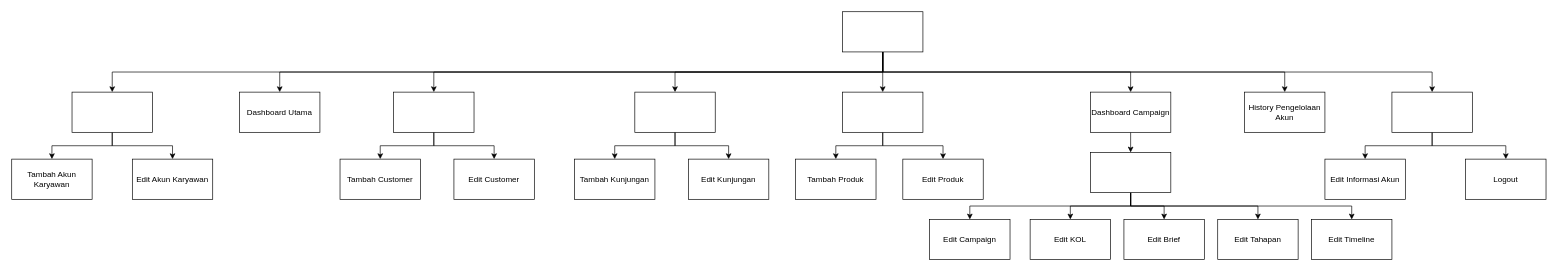
Some shapes in this 1558 by 271 pixel diagram are drawn without their labels. The centre of each missing label's shape, as x and y in pixels:
Dashboard Customer: [433,111]
Dashboard Kunjungan: [674,111]
Dashboard Produk: [882,111]
Informasi Akun: [1431,111]
Kelola Akun Karyawan: [111,111]
Login: [882,31]
Tambah Campaign: [1130,172]
